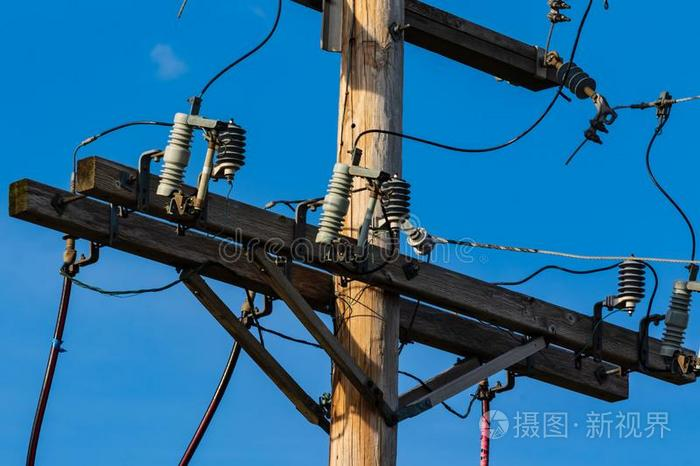insulator: (555, 60, 597, 99), (216, 125, 249, 167), (616, 260, 647, 300), (382, 180, 410, 222)
